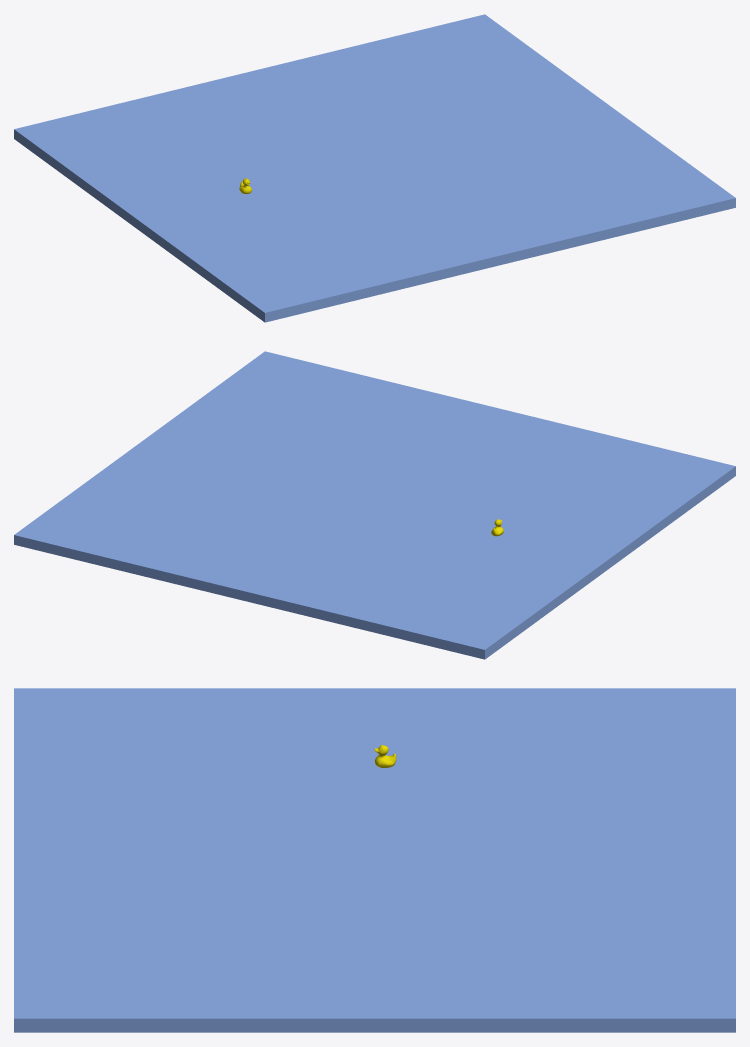
Rendered from Map.glb.
3 renders of one model, top to bottom at view 1: azimuth 30°, elevation 25°; view 2: azimuth 150°, elevation 25°; view 3: azimuth 270°, elevation 25°, orthographic. The views are drawn at different scales.
Visible parts, largest first — view 1: Cube; view 2: Cube; view 3: Cube.
Part boxes in pixels (<box>): Cube: <box>14,14,735,322</box>; Cube: <box>14,351,735,659</box>; Cube: <box>14,688,735,1032</box>.
Size of the model in its own units: 8 by 0.3809 by 7.39.
